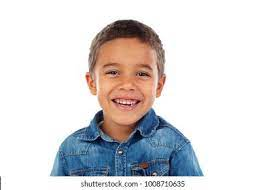person: (85, 19, 168, 128)
